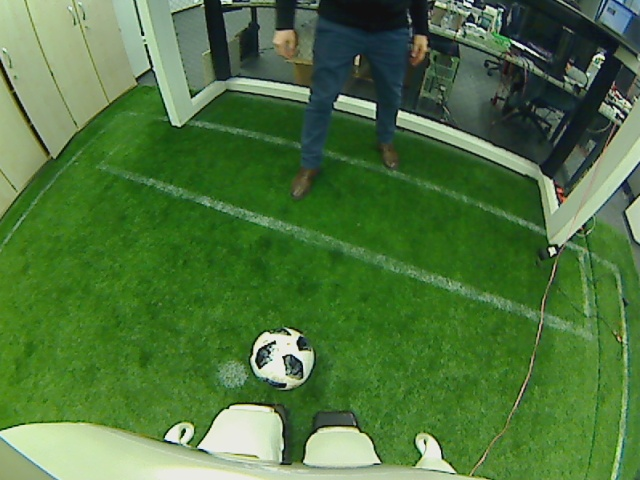ball: (247, 325, 314, 388)
